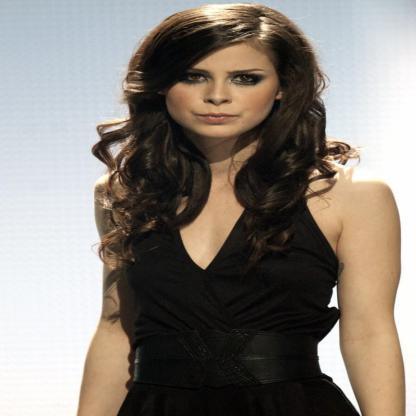long-hair: (92, 139, 350, 188)
